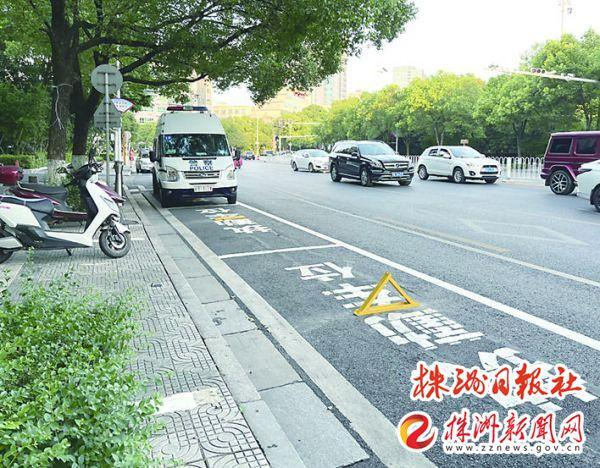slot_nocar: (198, 237, 600, 468), (157, 193, 359, 265)
